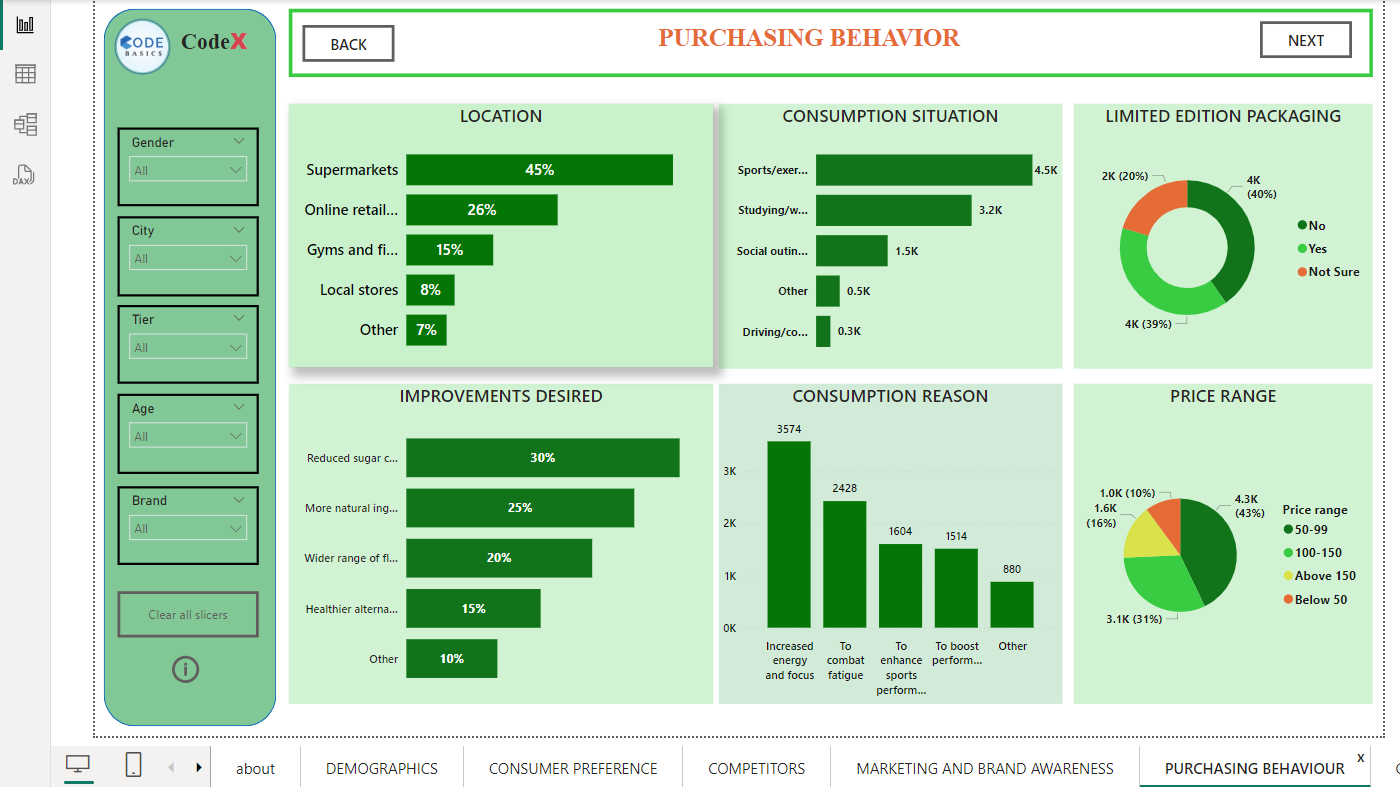

The page's visual inventory and layout, read from the dashboard file:
{"tool":"powerbi","page":{"name":"PURCHASING BEHAVIOUR","canvas":[1400,800],"ordinal":5},"visuals":[{"type":"shape","box":[9.5,9.5,187.5,779.9],"z":0},{"type":"image","box":[0,13.6,103.3,74.7],"z":1000},{"type":"textbox","box":[88.3,21.7,90,53.3],"z":2000},{"type":"shape","box":[210,10,1178.6,74.3],"z":3000},{"type":"slicer","fields":{"Values":["respondent_list.Gender"]},"box":[24.5,138.6,153.5,85.6],"z":4000},{"type":"slicer","fields":{"Values":["response_city_list.City"]},"box":[24.5,235.1,153.5,87],"z":5000},{"type":"slicer","fields":{"Values":["response_city_list.Tier"]},"box":[24.5,331.5,153.5,85.6],"z":6000},{"type":"slicer","fields":{"Values":["respondent_list.Age"]},"box":[24.5,428,153.5,87],"z":7000},{"type":"slicer","fields":{"Values":["survey_response_list.Current_brands"]},"box":[24.5,528.5,153.5,85.6],"z":8000},{"type":"actionButton","box":[24.5,642.7,153.5,50.3],"z":9000},{"type":"actionButton","box":[78.8,707.9,99.2,39.4],"z":10000},{"type":"textbox","box":[606.7,21.7,466.7,48.3],"z":11000},{"type":"actionButton","box":[1265.7,22.9,100,40],"z":12000},{"type":"actionButton","box":[225.7,27.1,100,40],"z":13000},{"type":"clusteredBarChart","title":"LOCATION","fields":{"Category":["survey_response_list.Purchase_location"],"Y":["Divide(CountNonNull(survey_response_list.Purchase_location), ScopedEval(CountNonNull(survey_response_list.Purchase_locat"]},"box":[210,113.3,461.7,286.7],"z":14000},{"type":"clusteredColumnChart","title":"CONSUMPTION REASON","fields":{"Y":["respondent_list.total count"],"Category":["survey_response_list.Consume_reason"]},"box":[678.3,416.7,373.3,348.3],"z":15000},{"type":"pieChart","title":"PRICE RANGE","fields":{"Category":["survey_response_list.Price_range"],"Y":["CountNonNull(survey_response_list.Price_range)"]},"box":[1063.3,416.7,325,348.3],"z":16000},{"type":"donutChart","title":"LIMITED EDITION PACKAGING","fields":{"Category":["survey_response_list.Limited_edition_packaging"],"Y":["CountNonNull(survey_response_list.Limited_edition_packaging)"]},"box":[1063.3,113.3,325,288.3],"z":17000},{"type":"clusteredBarChart","title":"IMPROVEMENTS DESIRED","fields":{"Category":["survey_response_list.Improvements_desired"],"Y":["respondent_list.total count"]},"box":[210,416.7,461.7,348.3],"z":18000},{"type":"clusteredBarChart","title":"CONSUMPTION SITUATION","fields":{"Category":["survey_response_list.Typical_consumption_situations"],"Y":["respondent_list.total count"]},"box":[678.3,113.3,373.3,288.3],"z":19000}]}

Visuals, with their boxes on the page's 1400x800 design canvas (x1, y1, x2, y2). These are canvas units, not pixel positions in the 1400x787 screenshot, which may show the page scaled, cropped or inside an application window:
shape: 10, 10, 197, 789
image: 0, 14, 103, 88
textbox: 88, 22, 178, 75
shape: 210, 10, 1389, 84
slicer - respondent_list.Gender: 24, 139, 178, 224
slicer - response_city_list.City: 24, 235, 178, 322
slicer - response_city_list.Tier: 24, 332, 178, 417
slicer - respondent_list.Age: 24, 428, 178, 515
slicer - survey_response_list.Current_brands: 24, 528, 178, 614
actionButton: 24, 643, 178, 693
actionButton: 79, 708, 178, 747
textbox: 607, 22, 1073, 70
actionButton: 1266, 23, 1366, 63
actionButton: 226, 27, 326, 67
"LOCATION" clusteredBarChart: 210, 113, 672, 400
"CONSUMPTION REASON" clusteredColumnChart: 678, 417, 1052, 765
"PRICE RANGE" pieChart: 1063, 417, 1388, 765
"LIMITED EDITION PACKAGING" donutChart: 1063, 113, 1388, 402
"IMPROVEMENTS DESIRED" clusteredBarChart: 210, 417, 672, 765
"CONSUMPTION SITUATION" clusteredBarChart: 678, 113, 1052, 402
